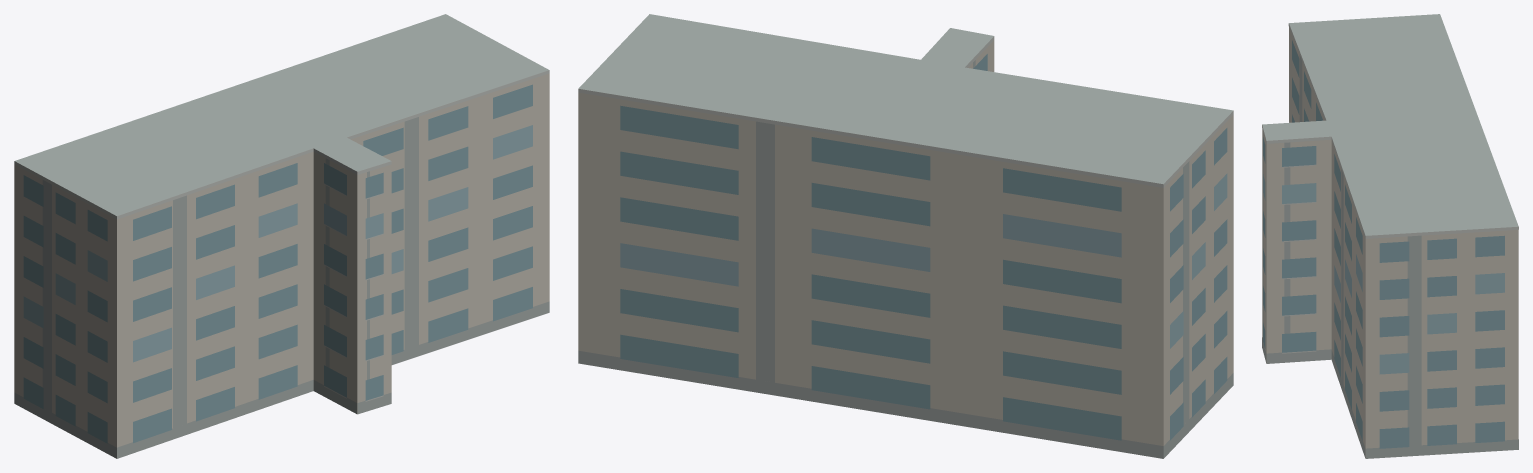
File: survey-upis-33012042.glb
3 views of the same model, side by side, from view 1: azimuth 30°, elevation 25°; view 2: azimuth 150°, elevation 25°; view 3: azimuth 270°, elevation 25° (orthographic). The views are drawn at different scales.
Visible parts, largest first — view 1: survey-upis-33012042.tmp; view 2: survey-upis-33012042.tmp; view 3: survey-upis-33012042.tmp.
Boxes of the visible parts, <box> form: survey-upis-33012042.tmp: <box>14,14,549,458</box>; survey-upis-33012042.tmp: <box>578,14,1233,458</box>; survey-upis-33012042.tmp: <box>1262,14,1518,458</box>.
Bounding box in the file's own units: 37.76 × 17.7 × 18.47.
